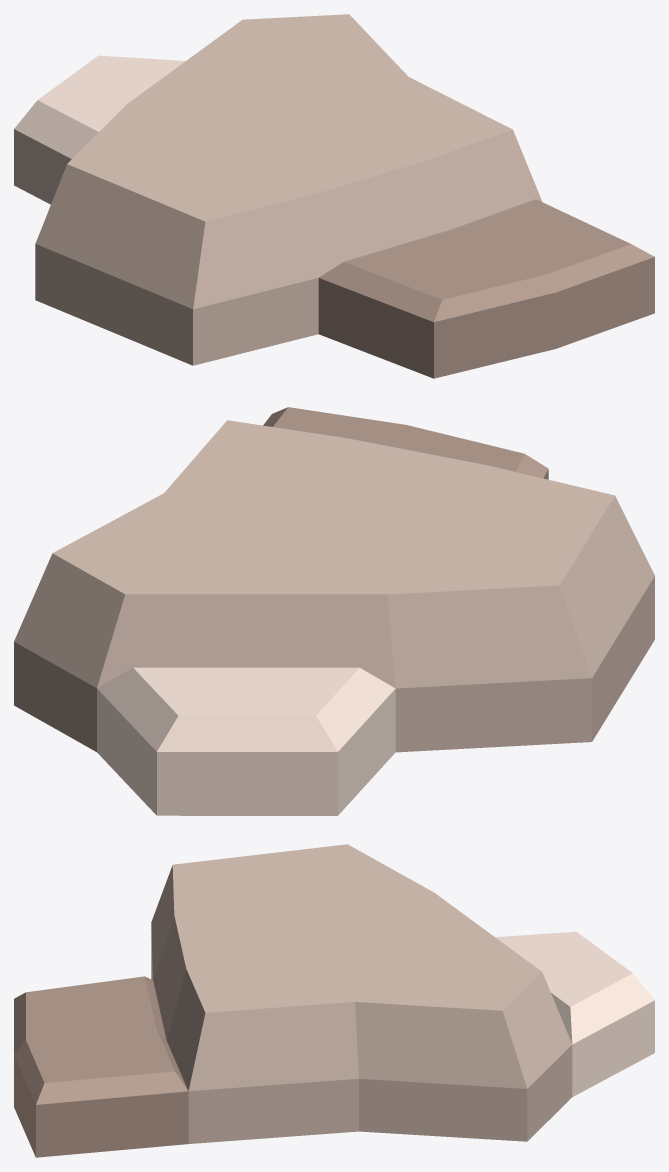
File: rock-type4-03-sand.glb
3 views of the same model, one above another, from view 1: azimuth 30°, elevation 25°; view 2: azimuth 150°, elevation 25°; view 3: azimuth 270°, elevation 25° (orthographic). The views are drawn at different scales.
Parts seen in each view (by area): view 1: Rock_Type4_03_mesh; view 2: Rock_Type4_03_mesh; view 3: Rock_Type4_03_mesh.
Boxes of the visible parts, left/top/right/bottom form: Rock_Type4_03_mesh: left=14, top=14, right=654, bottom=378; Rock_Type4_03_mesh: left=14, top=407, right=654, bottom=815; Rock_Type4_03_mesh: left=14, top=844, right=654, bottom=1157.
Size of the model in its own units: 1.52 by 0.4176 by 2.
Materials: 1 (1 with a texture image).
